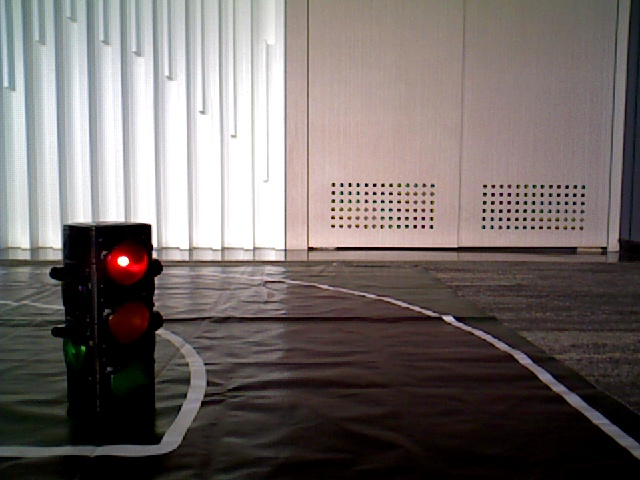red: (92, 228, 154, 431)
